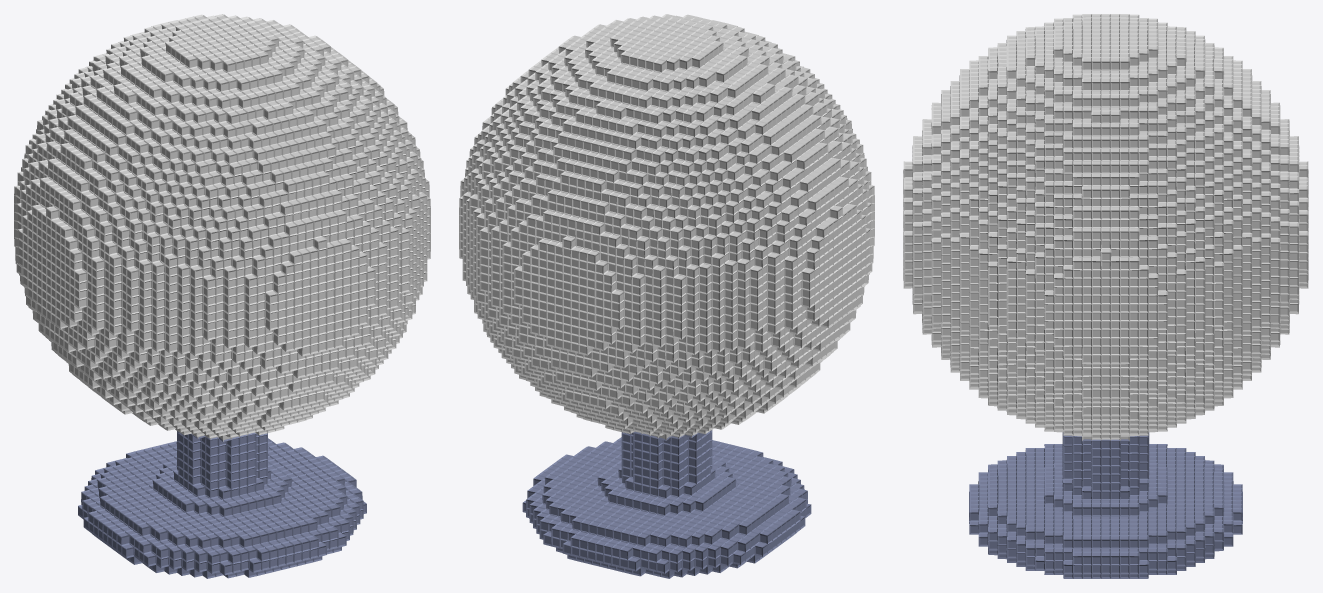
The model's file is discoball.fbx.
3 renders of one model, left to right at view 1: azimuth 30°, elevation 25°; view 2: azimuth 150°, elevation 25°; view 3: azimuth 270°, elevation 25°, orthographic.
Parts seen in each view (by area): view 1: DiscoballOG.001; view 2: DiscoballOG.001; view 3: DiscoballOG.001.
Part boxes in pixels (<box>): DiscoballOG.001: <box>14,14,430,578</box>; DiscoballOG.001: <box>459,14,874,578</box>; DiscoballOG.001: <box>903,14,1308,578</box>.
Size of the model in its own units: 194 by 257 by 194.
